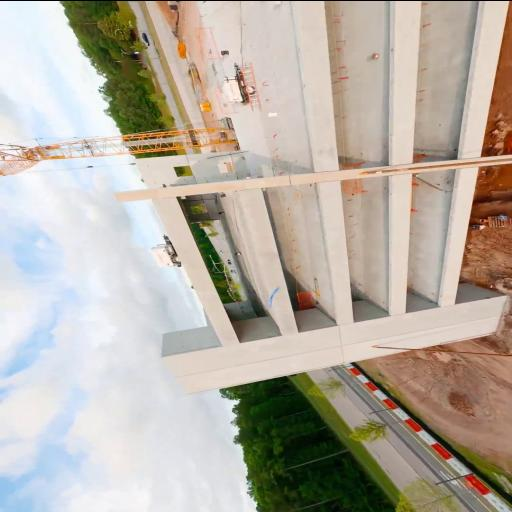uav: (262, 285, 282, 307)
